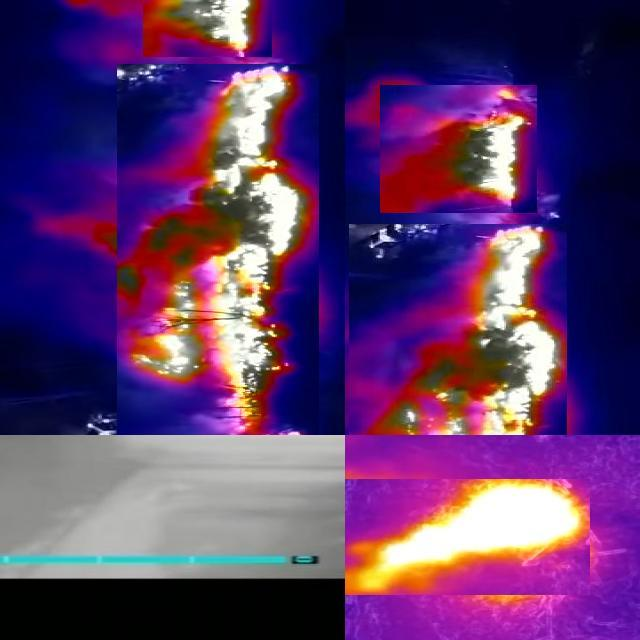fire: (118, 64, 320, 436), (350, 224, 568, 436), (346, 479, 591, 595), (381, 85, 538, 213), (144, 1, 273, 57)
